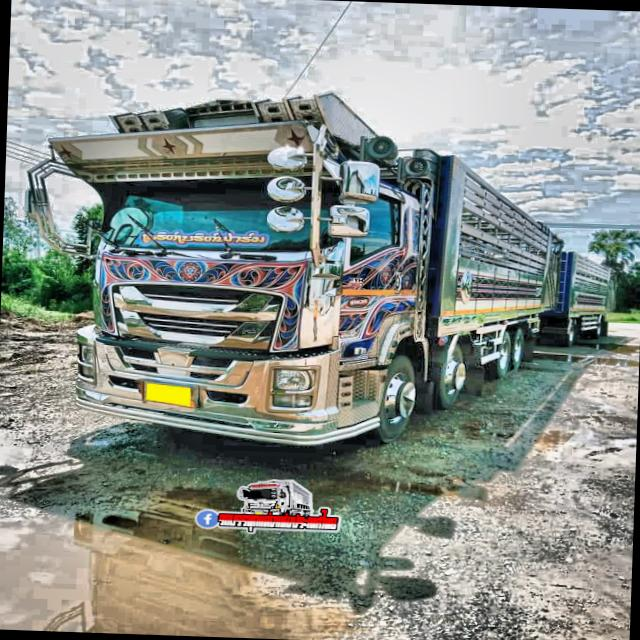trailer: (21, 71, 618, 472)
